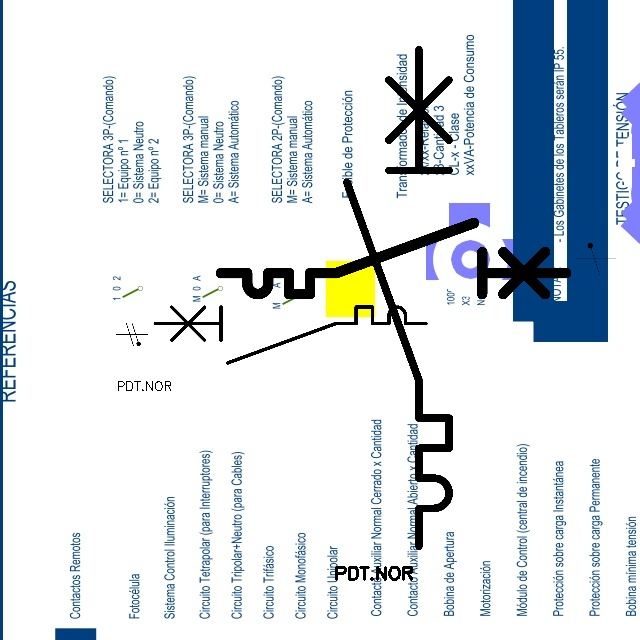interruptor_termomagnetico: (334, 37, 462, 559), (212, 214, 575, 303), (148, 300, 433, 369)
